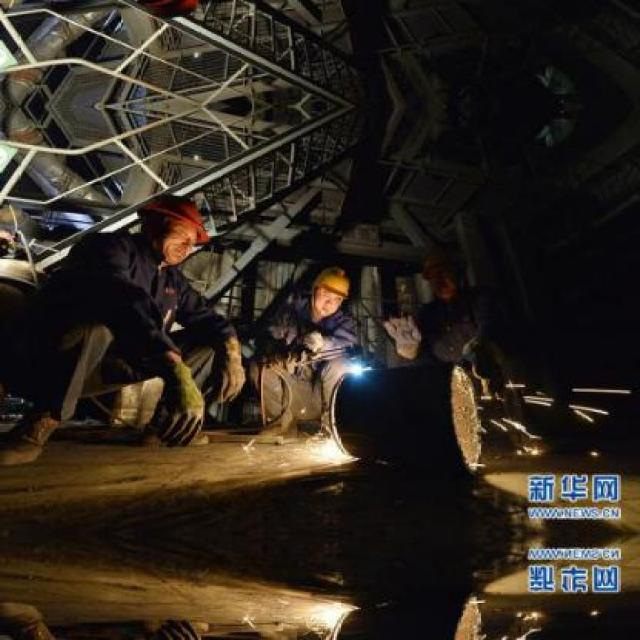helmet: (138, 193, 218, 284), (309, 262, 353, 322), (421, 244, 465, 297), (138, 0, 220, 20)
